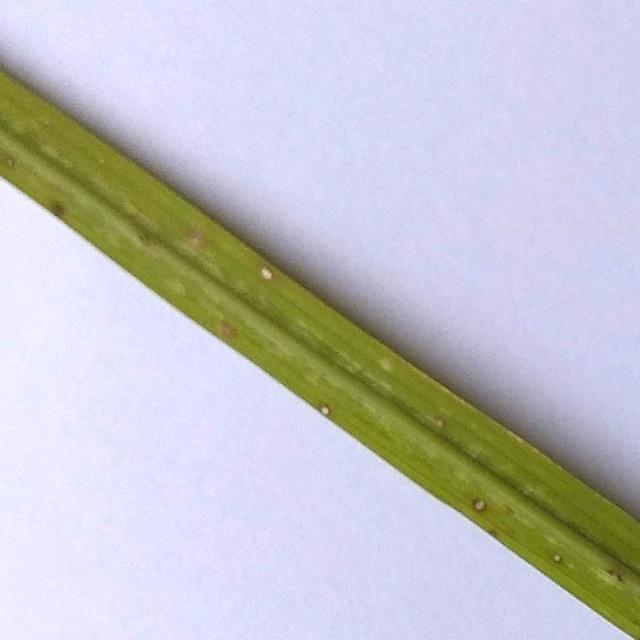Blast: (468, 491, 493, 514), (316, 401, 344, 418), (51, 196, 67, 215), (256, 268, 276, 280), (553, 550, 565, 565)
